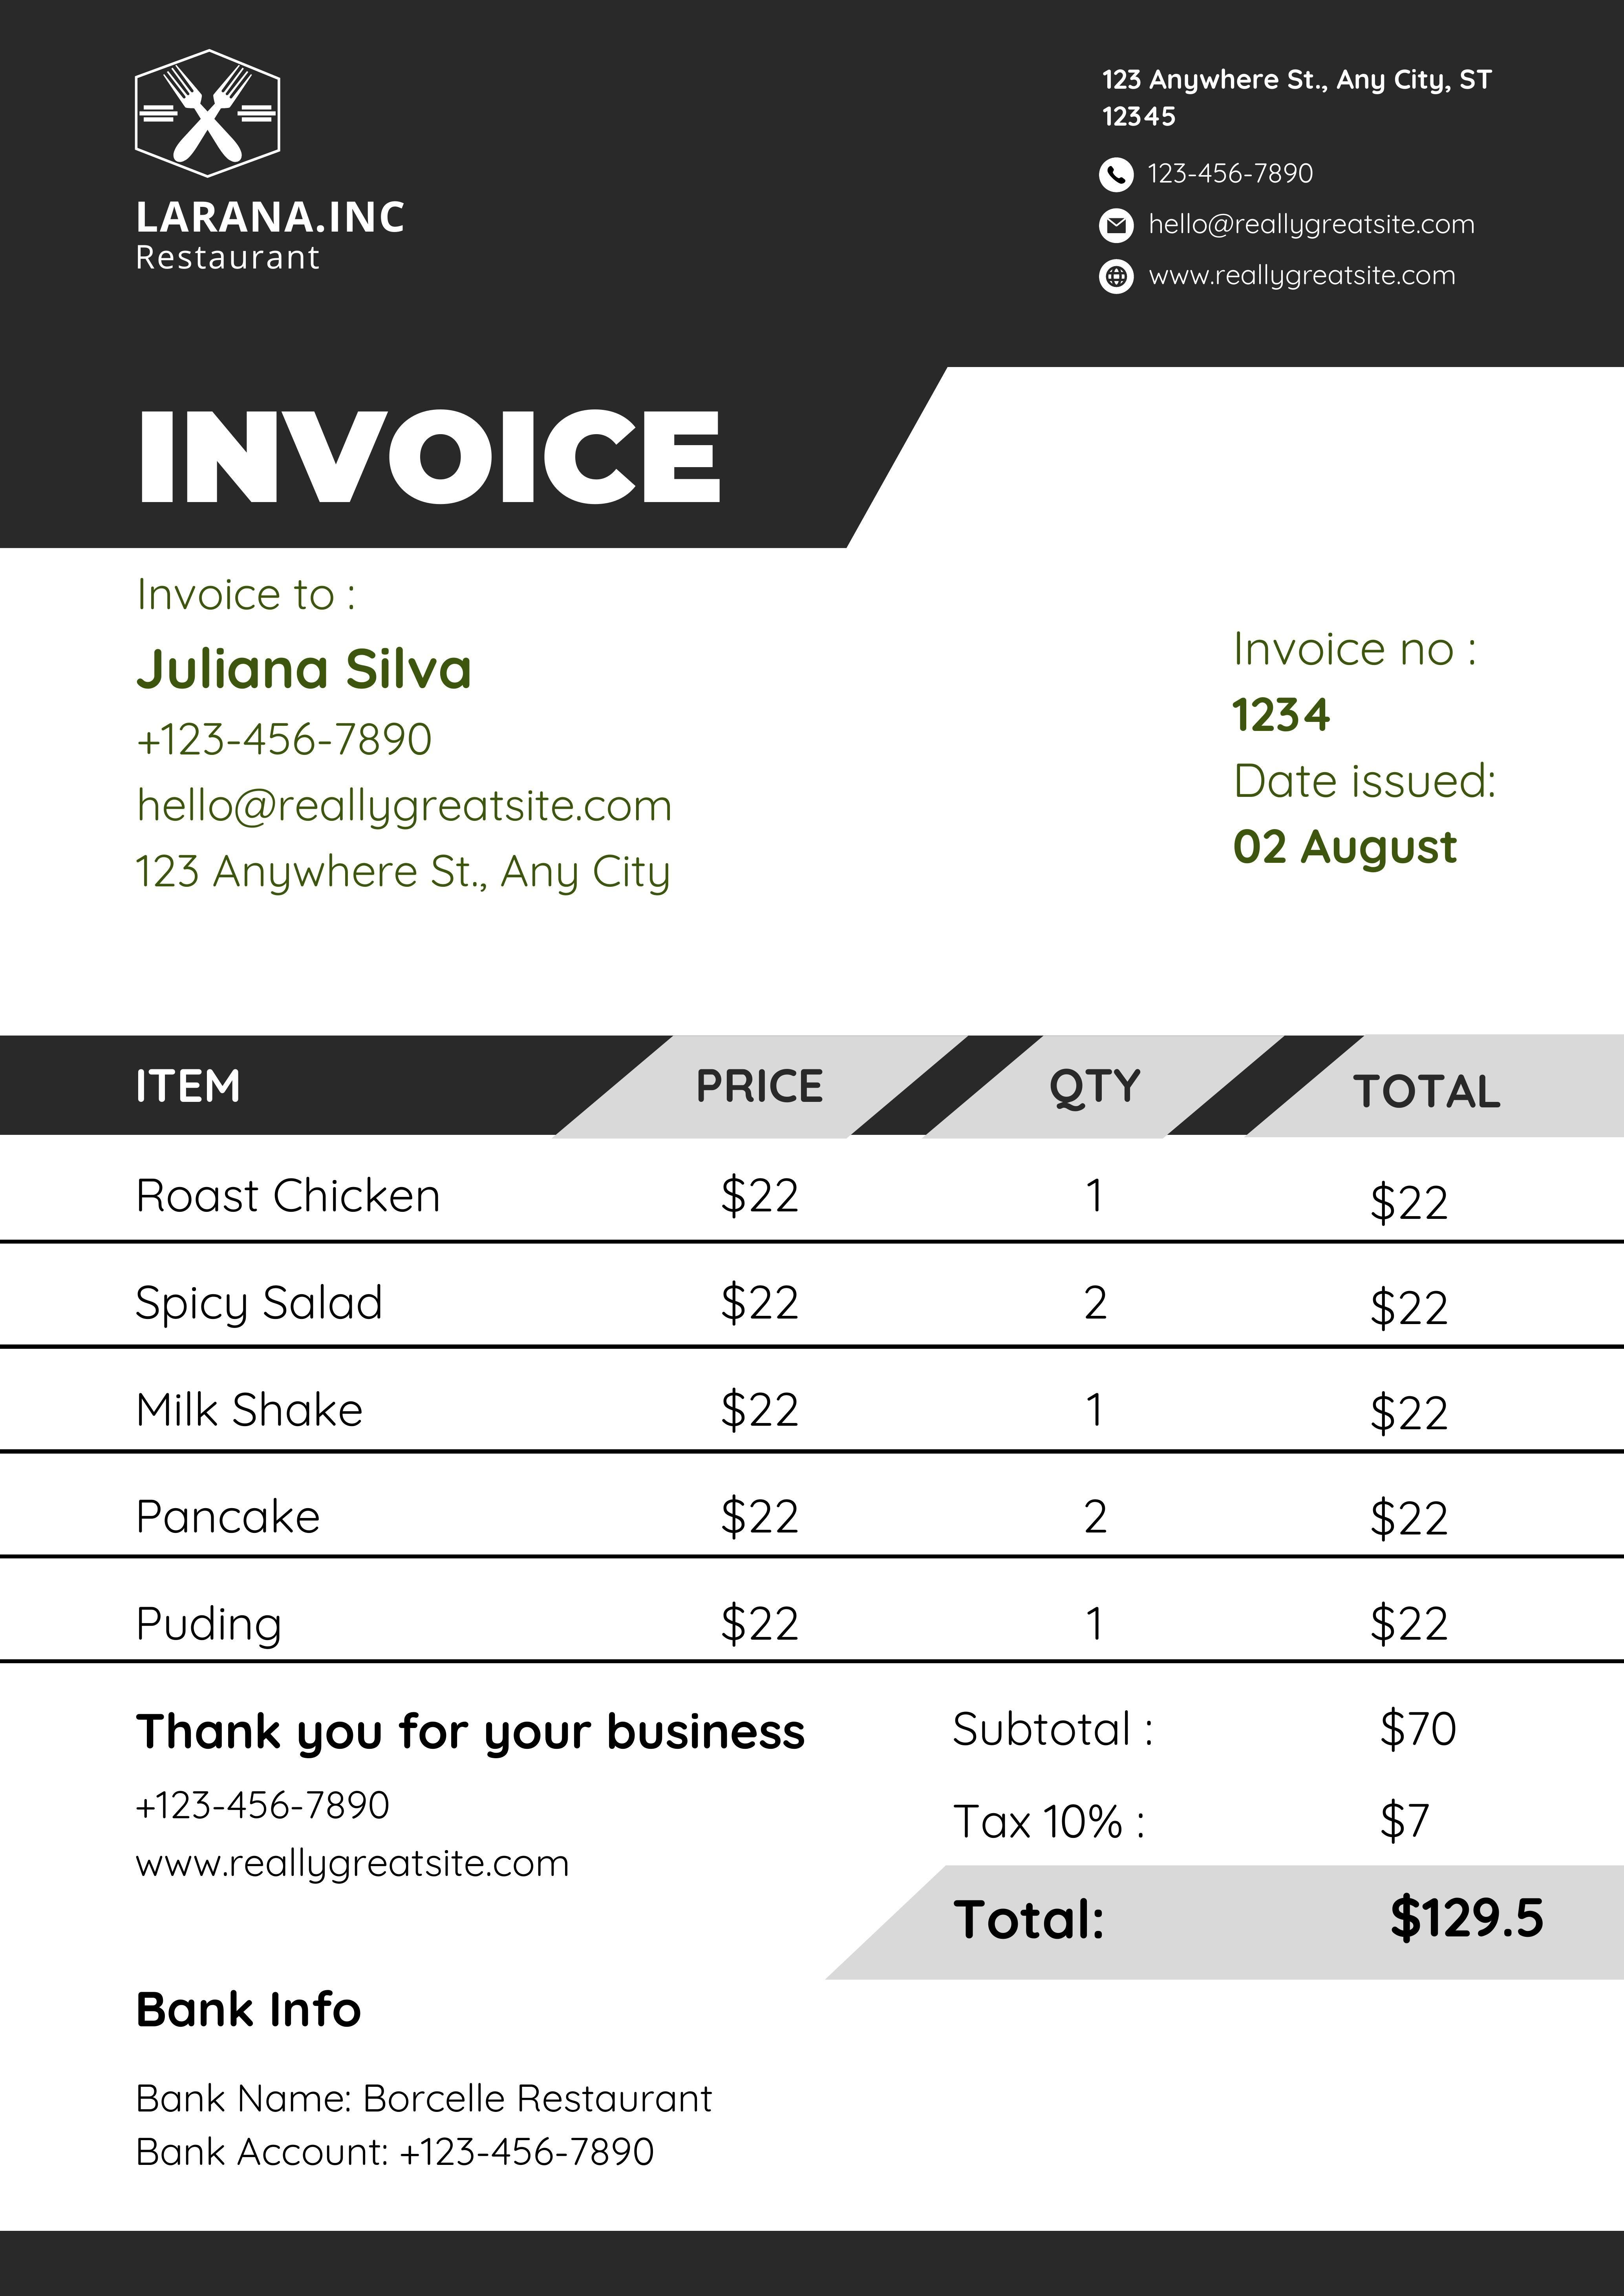ROI: (83, 1029, 1515, 1669), (849, 1685, 1571, 2006), (114, 562, 701, 936), (104, 1955, 745, 2201), (1195, 601, 1536, 931), (114, 184, 457, 286)
